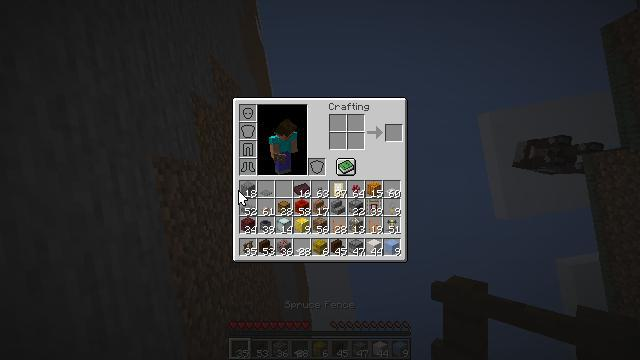cursor: (238, 190, 248, 206)
